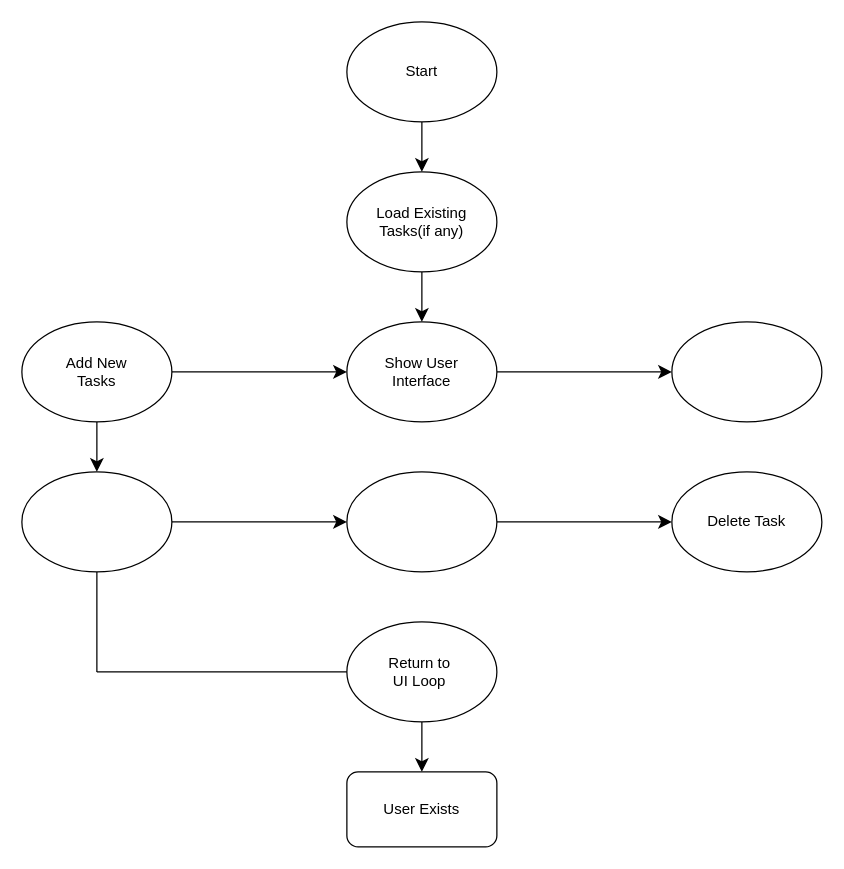
This 844x869 diagram has some shape labels left out. Each missing label, with the centre of its shape:
"Optional Actions" belongs at pixel 421 521.
"Update Task List" belongs at pixel 96 521.
"View Tasks" belongs at pixel 746 371.
